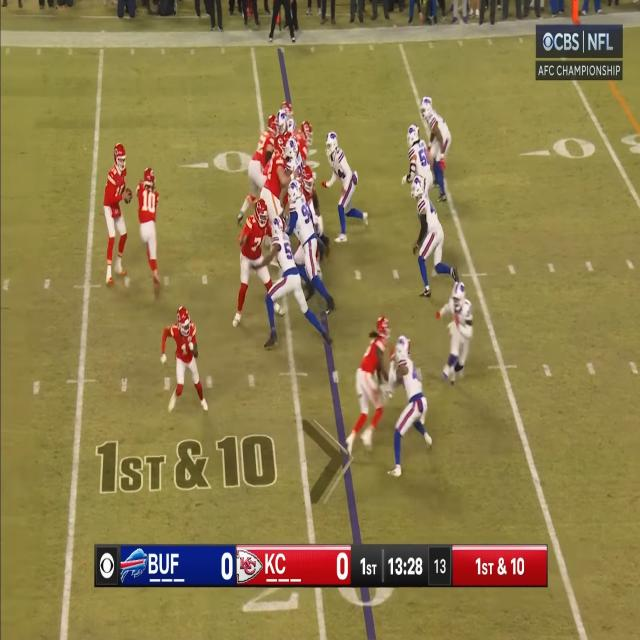Ball: (124, 185, 133, 205)
